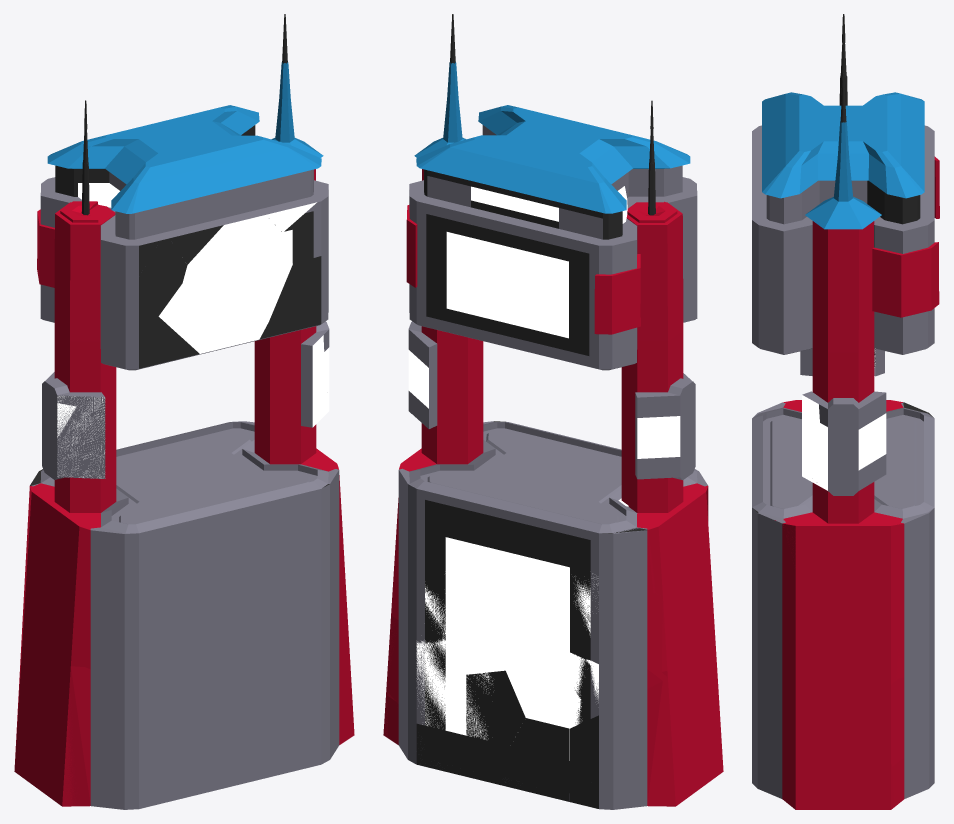
The model's file is FengShuiBuilding2.fbx.
3 views of the same model, side by side, from view 1: azimuth 30°, elevation 25°; view 2: azimuth 150°, elevation 25°; view 3: azimuth 270°, elevation 25° (orthographic).
Parts seen in each view (by area): view 1: Building, Building_cell.065, Building_cell.052, Building_cell.045, Building_cell.046, Building_cell.098, Building_cell.084, Building_cell.055, Building_cell.051, Building_cell.040, Building_cell.047, Building_cell.097 (+14 smaller); view 2: Building, Building_cell.008, Building_cell.013, Building_cell.095, Building_cell.087, Building_cell.073, Building_cell.033, Building_cell.081, Building_cell.011, Building_cell.052, Building_cell.014, Building_cell.066 (+5 smaller); view 3: Building, Building_cell.026, Building_cell.066, Building_cell.095, Building_cell.045, Building_cell.055, Building_cell.012, Building_cell.073, Building_cell.057, Building_cell.063, Building_cell.031, Building_cell.097 (+8 smaller).
Part boxes in pixels (x1,y1,x2,y2): Building: (14,14,354,809); Building_cell.065: (158,257,292,354); Building_cell.052: (15,657,138,806); Building_cell.045: (206,134,321,232); Building_cell.046: (42,372,105,478); Building_cell.098: (182,195,289,282); Building_cell.084: (101,206,160,300); Building_cell.055: (268,247,328,337); Building_cell.051: (158,176,239,264); Building_cell.040: (108,227,187,316); Building_cell.047: (119,311,200,370); Building_cell.097: (261,327,324,395); Building: (383,14,723,805); Building_cell.008: (570,660,692,809); Building_cell.013: (511,635,695,728); Building_cell.095: (386,615,466,735); Building_cell.087: (499,718,569,801); Building_cell.073: (387,696,504,785); Building_cell.033: (466,670,525,766); Building_cell.081: (563,573,689,671); Building_cell.011: (412,602,519,674); Building_cell.052: (675,638,723,806); Building_cell.014: (552,513,655,593); Building_cell.066: (391,550,497,637); Building: (752,14,939,809); Building_cell.026: (795,673,894,809); Building_cell.066: (843,586,933,683); Building_cell.095: (891,664,934,766); Building_cell.045: (752,128,827,217); Building_cell.055: (752,275,783,354); Building_cell.012: (802,423,858,472); Building_cell.073: (892,742,934,806); Building_cell.057: (815,209,858,277); Building_cell.063: (802,452,848,510); Building_cell.031: (886,439,934,474); Building_cell.097: (802,372,825,443).
Bounding box in the file's own units: 2163 × 5054 × 1204.
